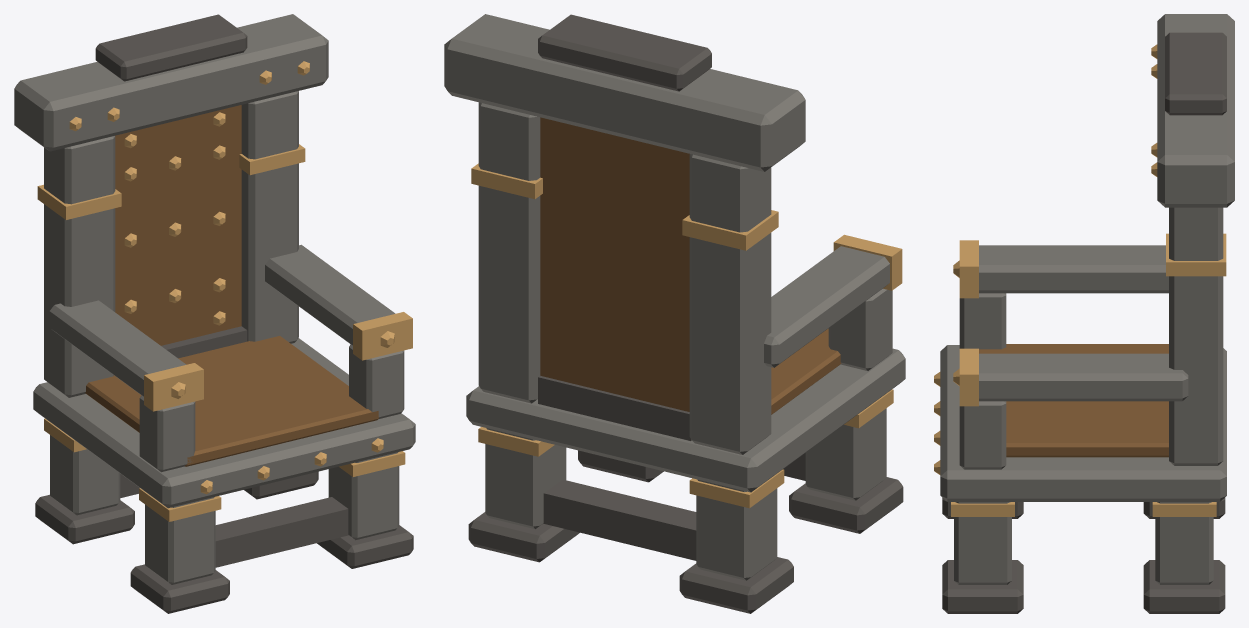
File: chair.glb
3 renders of one model, left to right at view 1: azimuth 30°, elevation 25°; view 2: azimuth 150°, elevation 25°; view 3: azimuth 270°, elevation 25°, orthographic. The views are drawn at different scales.
Parts seen in each view (by area): view 1: back_panel, back_crest, seat_board, seat_slab, post_l, post_r, crest_cap, arm_l, arm_r, stretcher_front, leg_fl, leg_fr (+17 smaller); view 2: back_panel, back_crest, post_l, seat_slab, post_r, crest_cap, arm_l, stretcher_rear, leg_rl, leg_rr, leg_fl, back_rail_low (+12 smaller); view 3: seat_slab, post_r, seat_board, back_crest, arm_r, arm_l, crest_cap, leg_rr, leg_fr, arm_post_r, foot_rr, foot_fr (+6 smaller).
Boxes of the visible parts, box(x1,y1,x2,y2) form: back_panel: box(115, 105, 241, 345); back_crest: box(14, 14, 328, 151); seat_board: box(85, 336, 378, 466); seat_slab: box(33, 338, 415, 508); post_l: box(44, 136, 115, 397); post_r: box(241, 91, 298, 343); crest_cap: box(95, 14, 247, 81); arm_l: box(49, 300, 186, 396); arm_r: box(265, 244, 395, 345); stretcher_front: box(215, 497, 348, 567); leg_fl: box(145, 497, 215, 584); leg_fr: box(328, 452, 399, 540); back_panel: box(540, 117, 689, 411); back_crest: box(444, 14, 805, 171); post_l: box(689, 154, 771, 454); seat_slab: box(466, 348, 905, 492); post_r: box(478, 102, 540, 403); crest_cap: box(538, 14, 711, 91); arm_l: box(764, 246, 889, 367); stretcher_rear: box(543, 479, 696, 560); leg_rl: box(696, 479, 777, 580); leg_rr: box(485, 428, 566, 529); leg_fl: box(805, 408, 886, 500); back_rail_low: box(538, 375, 691, 440); seat_slab: box(940, 345, 1226, 501); post_r: box(1169, 207, 1223, 465); seat_board: box(979, 344, 1168, 457); back_crest: box(1157, 14, 1234, 207); arm_r: box(979, 353, 1188, 401); arm_l: box(979, 245, 1168, 293); crest_cap: box(1165, 32, 1226, 115); leg_rr: box(1155, 502, 1213, 584); leg_fr: box(954, 502, 1011, 584); arm_post_r: box(959, 401, 1006, 469); foot_rr: box(1143, 560, 1225, 613); foot_fr: box(942, 560, 1023, 613).
Size of what is drawn, in the model's own units: 0.9 by 1.39 by 0.776.
